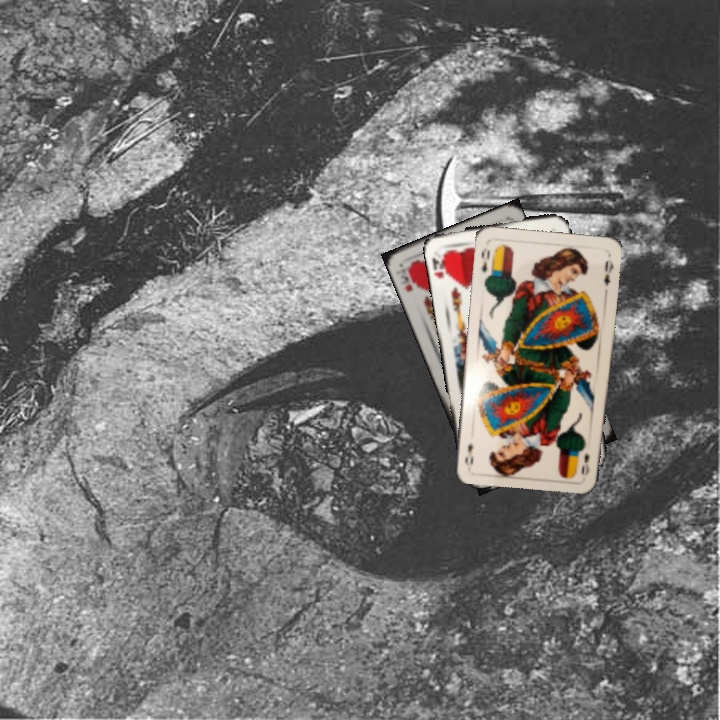EO: (477, 244, 492, 275), (578, 450, 592, 478)
HK: (428, 249, 452, 281), (397, 265, 417, 295)
